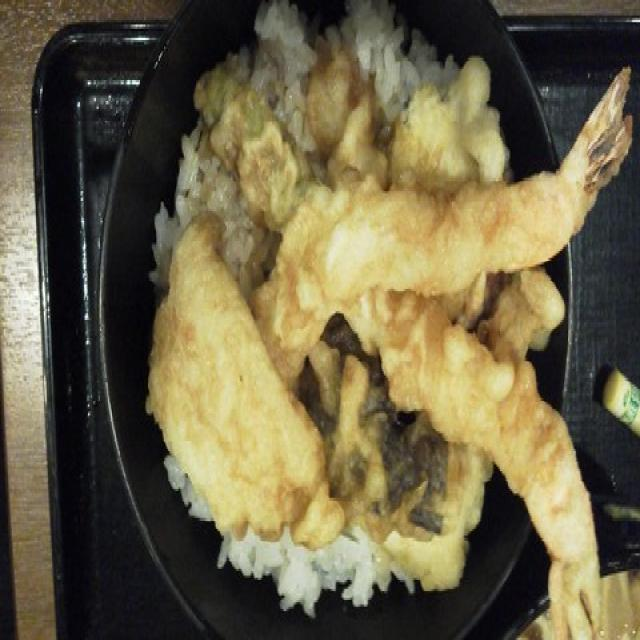熟制海鲜: (106, 0, 622, 640)
